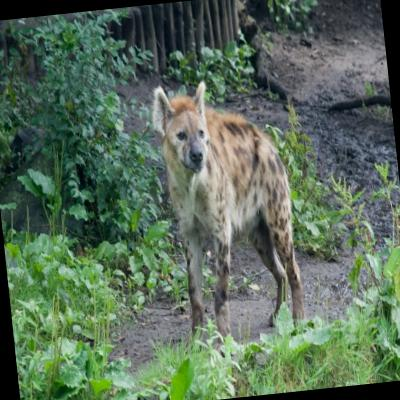hyenas: (102, 62, 324, 377)
